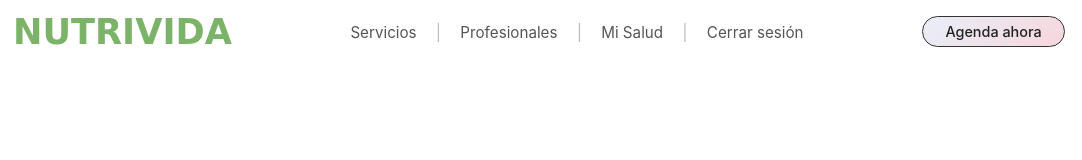
Test: Header según la sesión › al cerrar sesión borra la sesión y los datos de la reserva, y vuelve al inicio
Click the link "Cerrar sesión". click: click(755, 32)
box: [707,22,804,42]
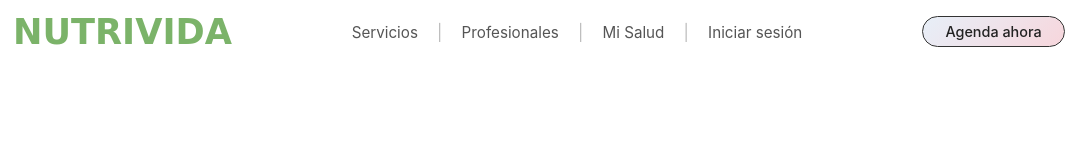
Check: the link "Iniciar sesión" is shown, box [708,22,802,42]
